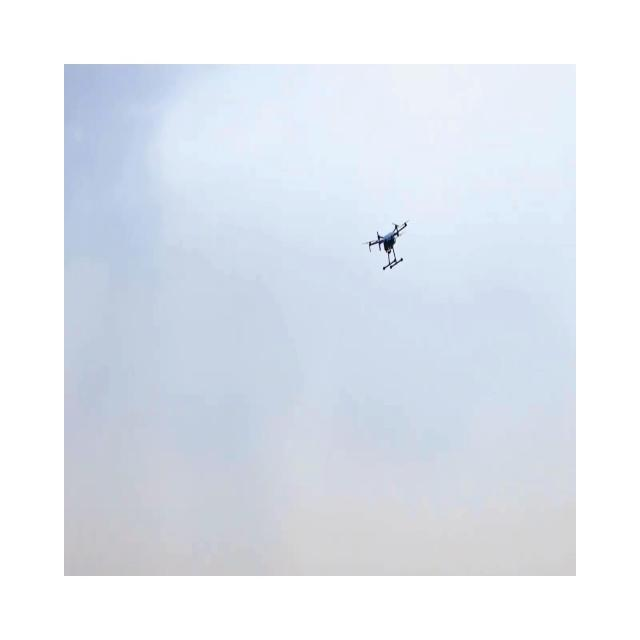drone: (362, 218, 409, 270)
